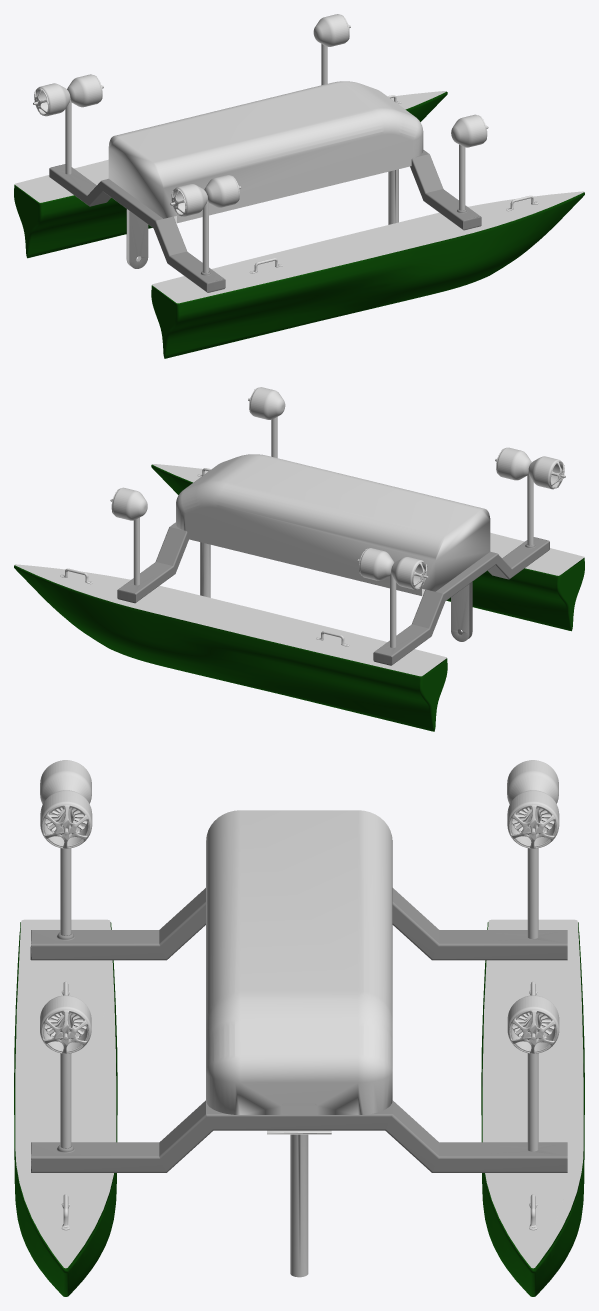
The picture shows the model from 3 angles, top to bottom: view 1: azimuth 30°, elevation 25°; view 2: azimuth 150°, elevation 25°; view 3: azimuth 270°, elevation 25°; orthographic projection. The views are drawn at different scales.
Parts seen in each view (by area): view 1: base_link.001; view 2: base_link.001; view 3: base_link.001.
Part boxes in pixels (x1,y1,x2,y2): base_link.001: (14, 14, 584, 358); base_link.001: (14, 387, 584, 731); base_link.001: (14, 760, 584, 1296).
Size of the model in its own units: 2.3 by 1.59 by 0.871.
3 materials, 3 textured.
